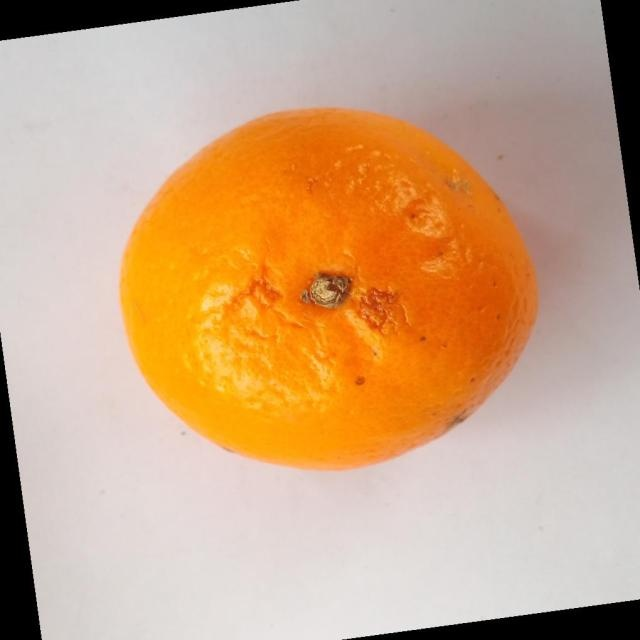agrume: (118, 105, 539, 472)
